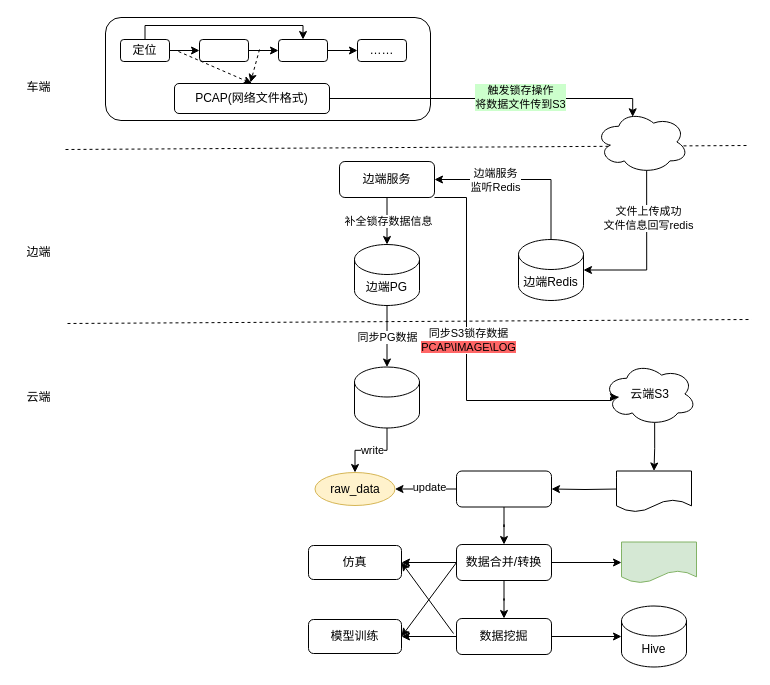
Some shapes in this 770 by 685 pixel diagram are drawn without their labels. The centre of each missing label's shape, as x and y in pixels:
"PCAP数据" belongs at pixel 654 491.
"ROSbag数据" belongs at pixel 658 562.
"云端PG" belongs at pixel 387 397.
"感知" belongs at pixel 223 50.
"数据清洗" belongs at pixel 504 488.
"规控" belongs at pixel 303 50.
"边端S3" belongs at pixel 641 142.
